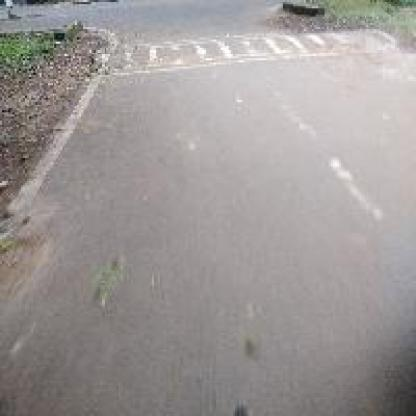Speed Bump: (96, 15, 393, 81)
